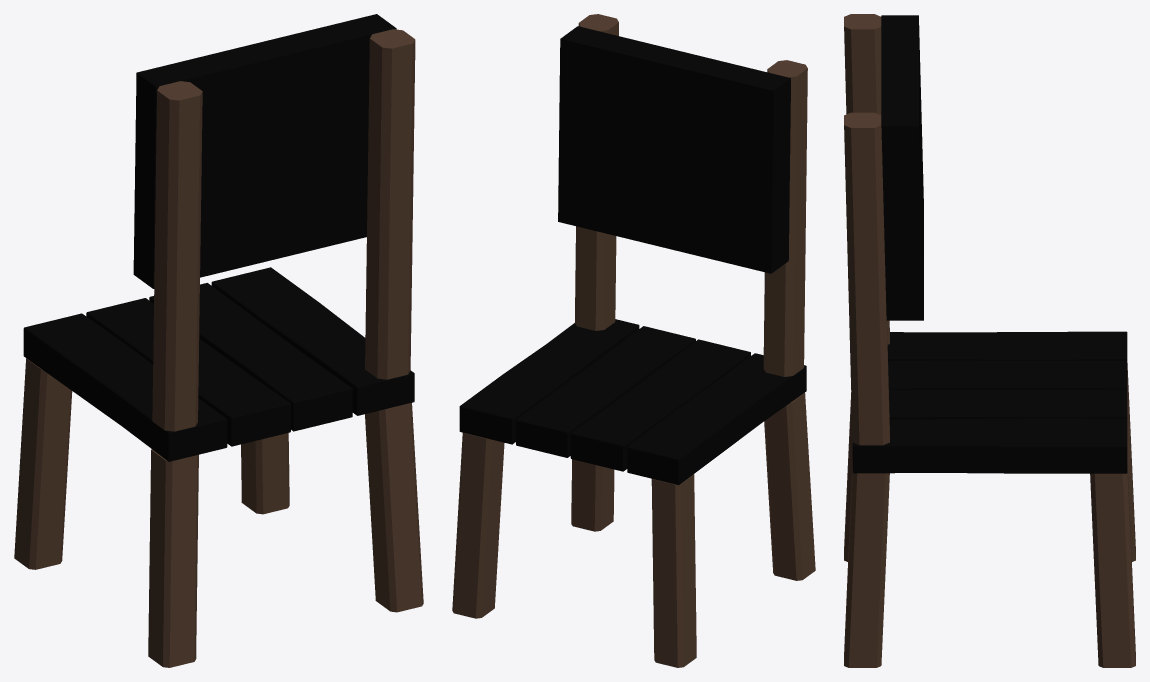
The model's file is Chair.fbx.
3 renders of one model, left to right at view 1: azimuth 30°, elevation 25°; view 2: azimuth 150°, elevation 25°; view 3: azimuth 270°, elevation 25°, orthographic. The views are drawn at different scales.
Parts seen in each view (by area): view 1: Chair; view 2: Chair; view 3: Chair.
Part boxes in pixels (x1,y1,x2,y2): Chair: (14,14,423,667); Chair: (452,14,815,667); Chair: (844,14,1135,667).
Bounding box in the file's own units: 0.6392 × 1.32 × 0.6523.
